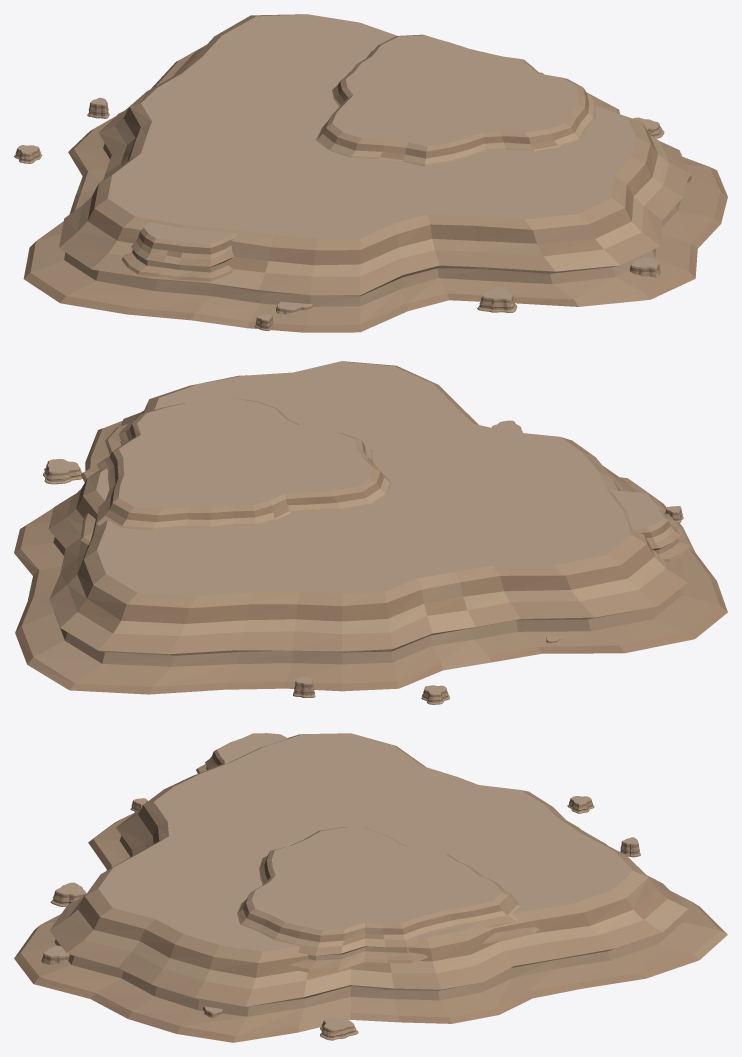
The model's file is SandstoneShelfC.glb.
3 renders of one model, top to bottom at view 1: azimuth 30°, elevation 25°; view 2: azimuth 150°, elevation 25°; view 3: azimuth 270°, elevation 25°, orthographic. The views are drawn at different scales.
Visible parts, largest first — view 1: Fractured dry island, Stepped eastern crown, Weathered rim, Detached sandstone fragment.028; view 2: Fractured dry island, Stepped eastern crown, Weathered rim, Detached sandstone fragment.022; view 3: Fractured dry island, Stepped eastern crown, Weathered rim, Detached sandstone fragment.022, Detached sandstone fragment.028.
Part boxes in pixels (<box>): Fractured dry island: <box>23,14,727,332</box>; Stepped eastern crown: <box>316,34,619,166</box>; Weathered rim: <box>121,222,237,281</box>; Detached sandstone fragment.028: <box>477,286,517,312</box>; Fractured dry island: <box>14,361,727,694</box>; Stepped eastern crown: <box>80,398,391,544</box>; Weathered rim: <box>610,489,692,562</box>; Detached sandstone fragment.022: <box>43,459,82,484</box>; Fractured dry island: <box>14,733,727,1042</box>; Stepped eastern crown: <box>237,827,538,972</box>; Weathered rim: <box>196,733,287,773</box>; Detached sandstone fragment.022: <box>320,1016,358,1040</box>; Detached sandstone fragment.028: <box>50,882,86,906</box>.
Bounding box in the file's own units: 9.82 × 1.09 × 10.16.
